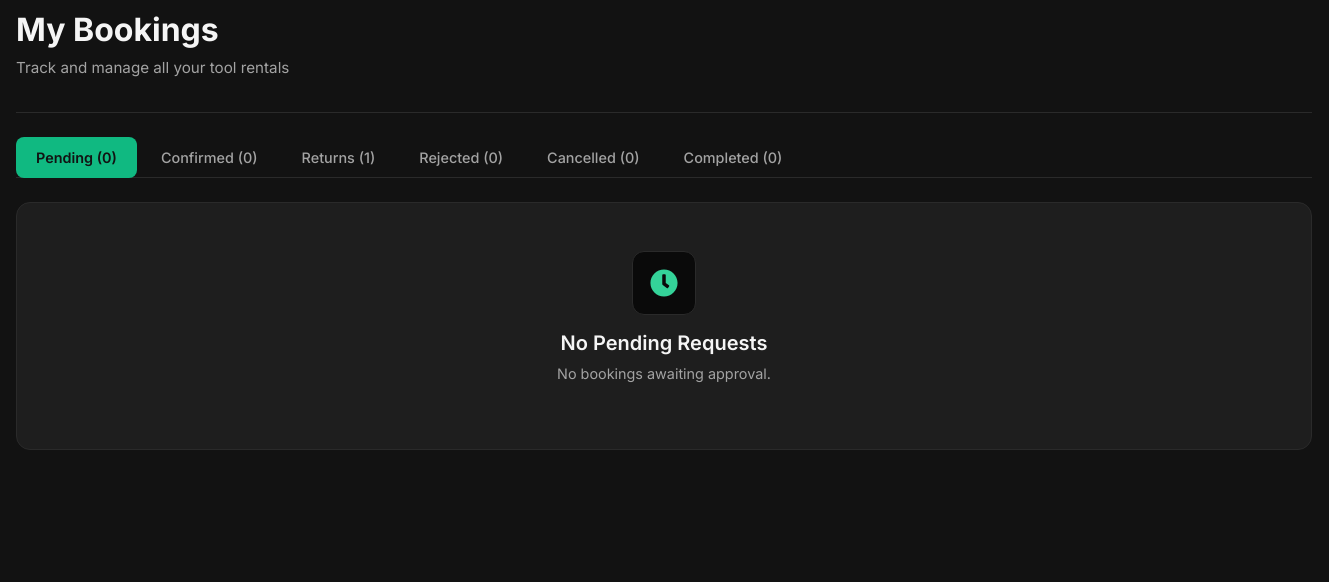
Test: keeps return-requested bookings visible until the owner confirms the return
Step 1. Click the tab "Returns (1)" → (338,158), box [282, 137, 395, 178]
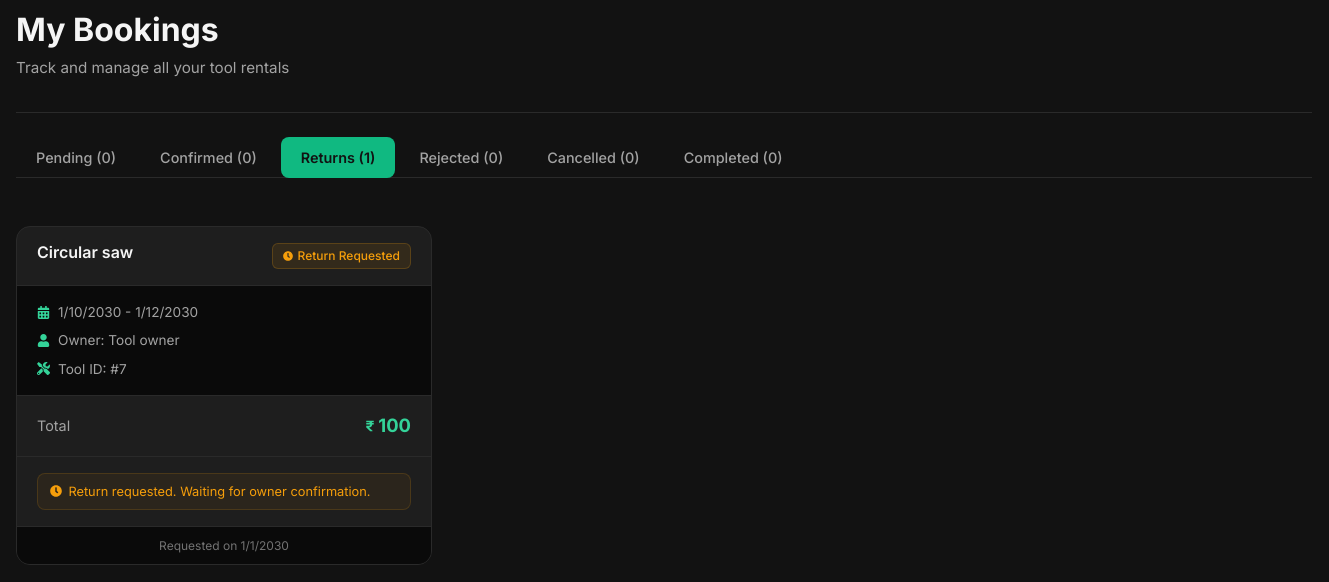
Check: the heading "Circular saw" is shown, box [37, 243, 133, 262]
Check: the text "Return Requested" is shown, box [272, 243, 411, 269]
Check: the text "Return requested. Waiting for owner confirmation." is shown, box [37, 473, 411, 510]
